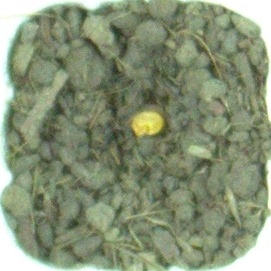chilli seed: (131, 110, 164, 138)
